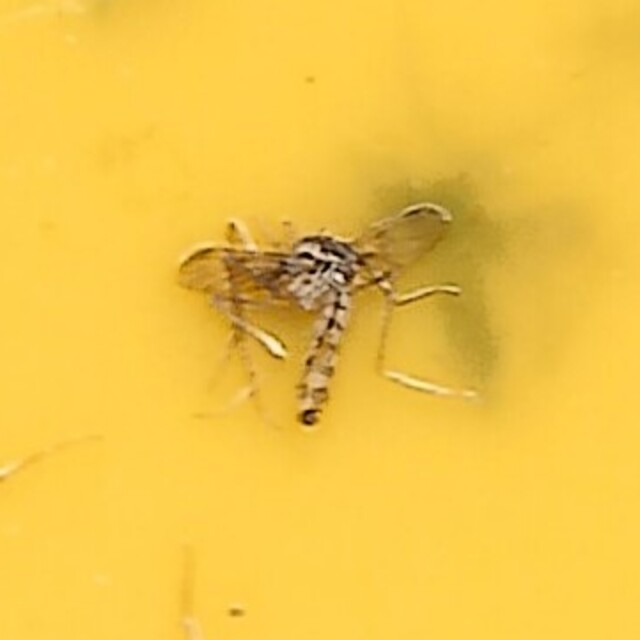Nematocera: (177, 200, 463, 440)
